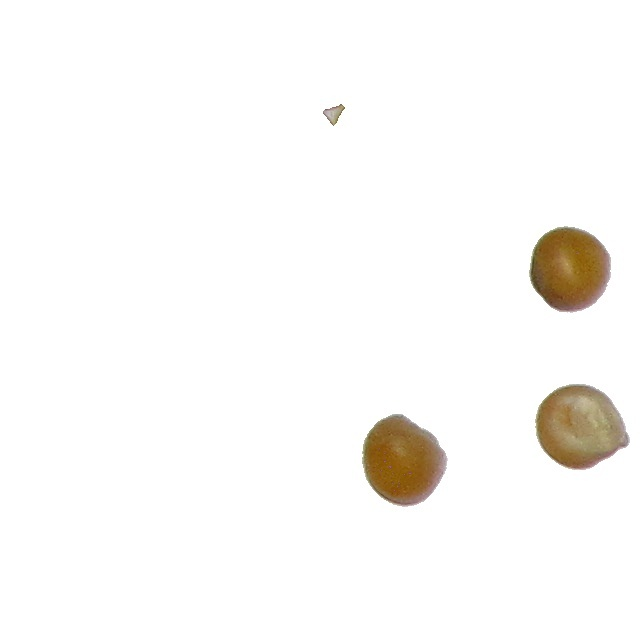dill: (322, 103, 346, 127)
mais: (534, 383, 631, 471), (361, 413, 449, 508), (528, 225, 612, 314)
